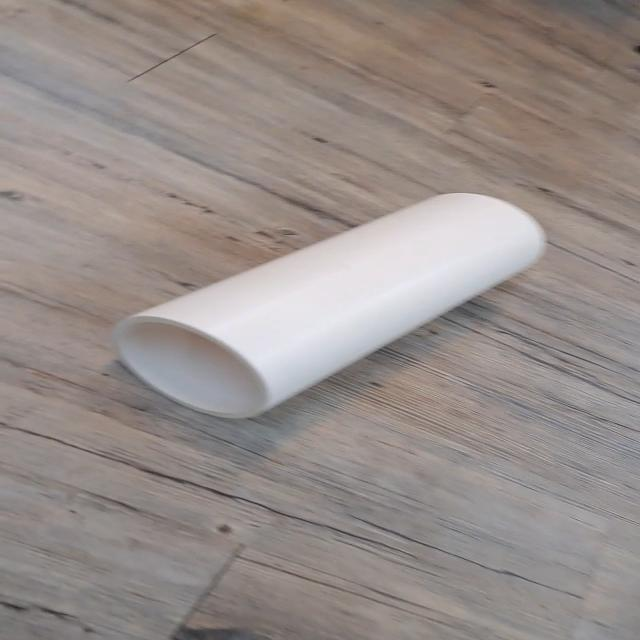CORAL: (101, 182, 554, 416)
